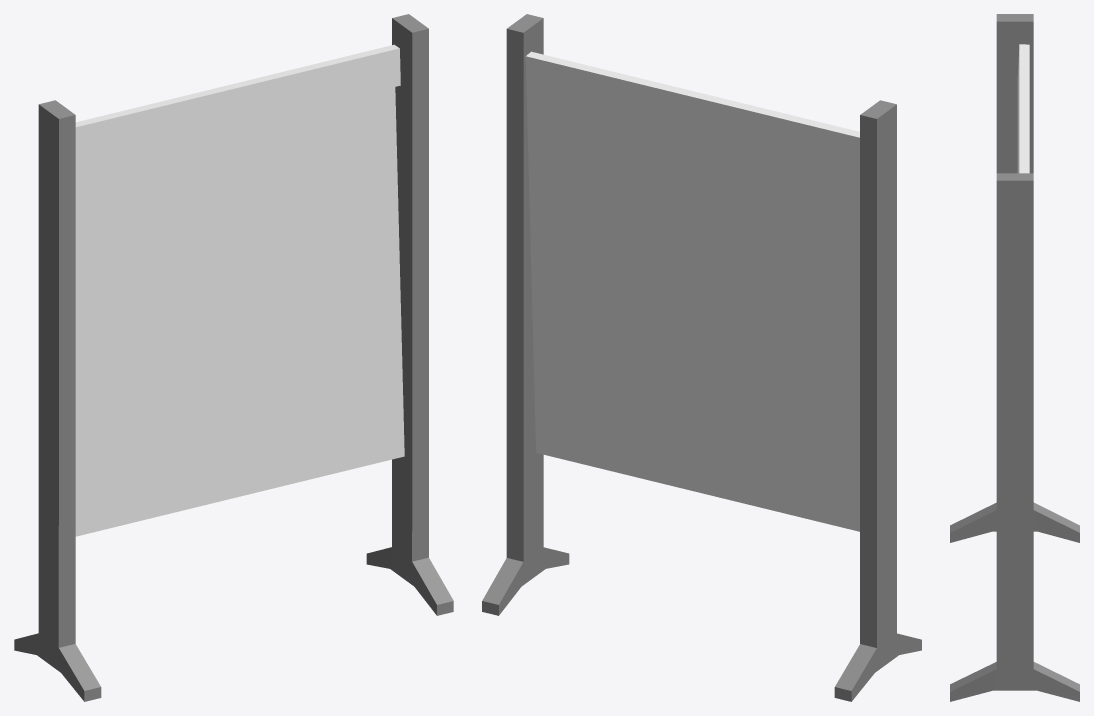
The model's file is whiteboard 3.fbx.
The picture shows the model from 3 angles, left to right: view 1: azimuth 30°, elevation 25°; view 2: azimuth 150°, elevation 25°; view 3: azimuth 270°, elevation 25°; orthographic projection. The views are drawn at different scales.
Visible parts, largest first — view 1: whiteboard.001, whiteboard stand.001; view 2: whiteboard.001, whiteboard stand.001; view 3: whiteboard stand.001, whiteboard.001.
Boxes of the visible parts, x1=… form: whiteboard.001: x1=75, y1=44, x2=404, y2=536; whiteboard stand.001: x1=14, y1=14, x2=453, y2=701; whiteboard.001: x1=525, y1=51, x2=859, y2=531; whiteboard stand.001: x1=482, y1=14, x2=921, y2=701; whiteboard stand.001: x1=950, y1=14, x2=1079, y2=701; whiteboard.001: x1=1017, y1=44, x2=1029, y2=173.
Bounding box in the file's own units: 214 × 311 × 70.24.
